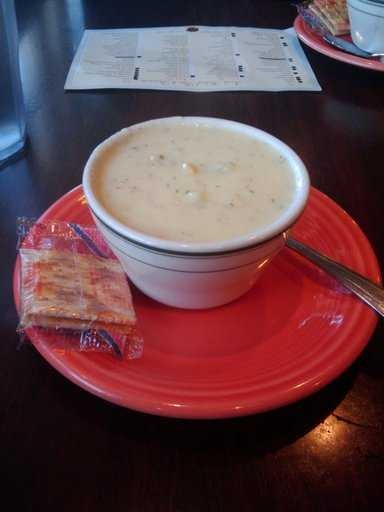soup: (104, 117, 297, 230)
